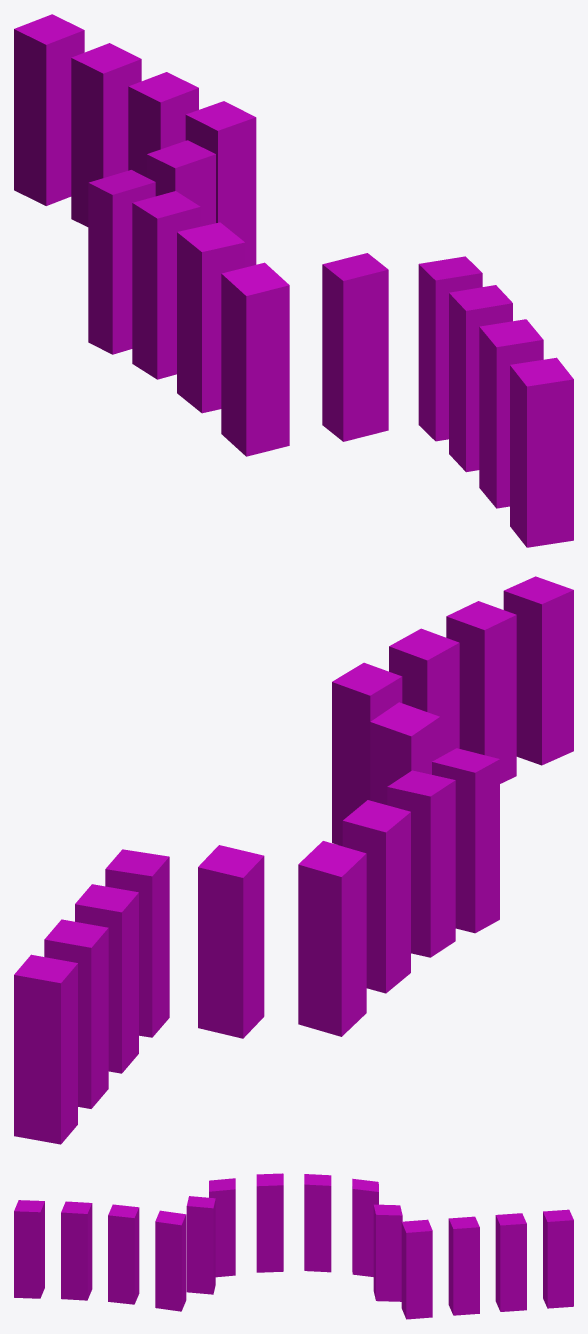
Rendered from M09_Z03_TeethBlock02.glb.
3 renders of one model, top to bottom at view 1: azimuth 30°, elevation 25°; view 2: azimuth 150°, elevation 25°; view 3: azimuth 270°, elevation 25°, orthographic. The views are drawn at different scales.
Visible parts, largest first — view 1: M09_Z03_TEETHBLOCK02; view 2: M09_Z03_TEETHBLOCK02; view 3: M09_Z03_TEETHBLOCK02.
Boxes of the visible parts, x1,y1,x2,y2 form: M09_Z03_TEETHBLOCK02: (14, 14, 573, 547); M09_Z03_TEETHBLOCK02: (14, 576, 573, 1144); M09_Z03_TEETHBLOCK02: (14, 1173, 573, 1319).
Size of the model in its own units: 10.06 by 9.33 by 46.87.
